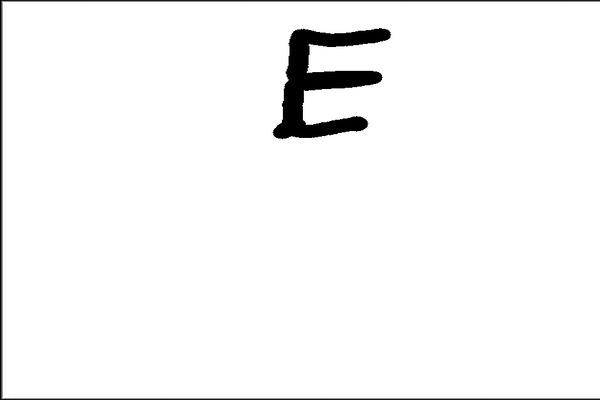E: (267, 22, 393, 143)
